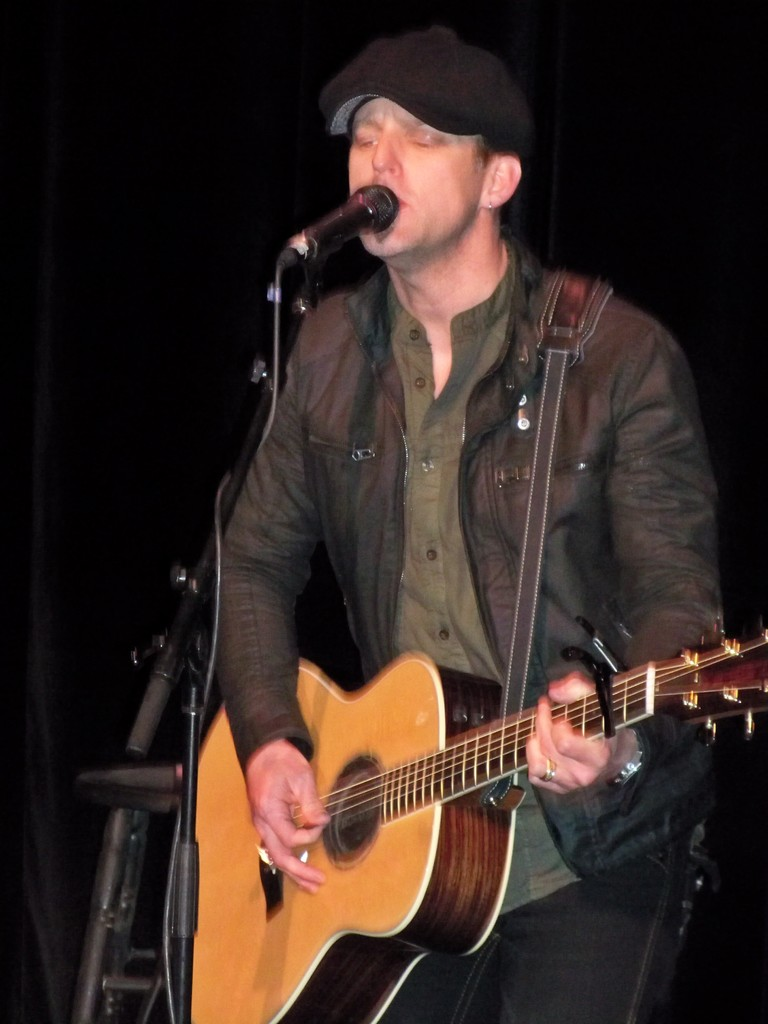Human_hand: (520, 671, 632, 797), (246, 739, 318, 865)
